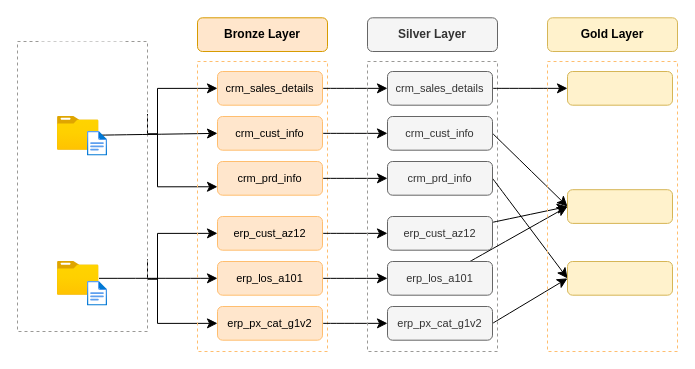
Some shapes in this 695 by 369 pixel diagram are drawn without their labels. The box of each missing label's shape, as (x1, y1, x2, y2) in pixels:
CRM: (57, 116, 98, 150)
dim_customers: (566, 189, 672, 223)
dim_products: (566, 260, 672, 295)
ERP: (57, 261, 98, 295)
fact_sales: (566, 70, 672, 105)
Sources: (40, 41, 124, 75)
